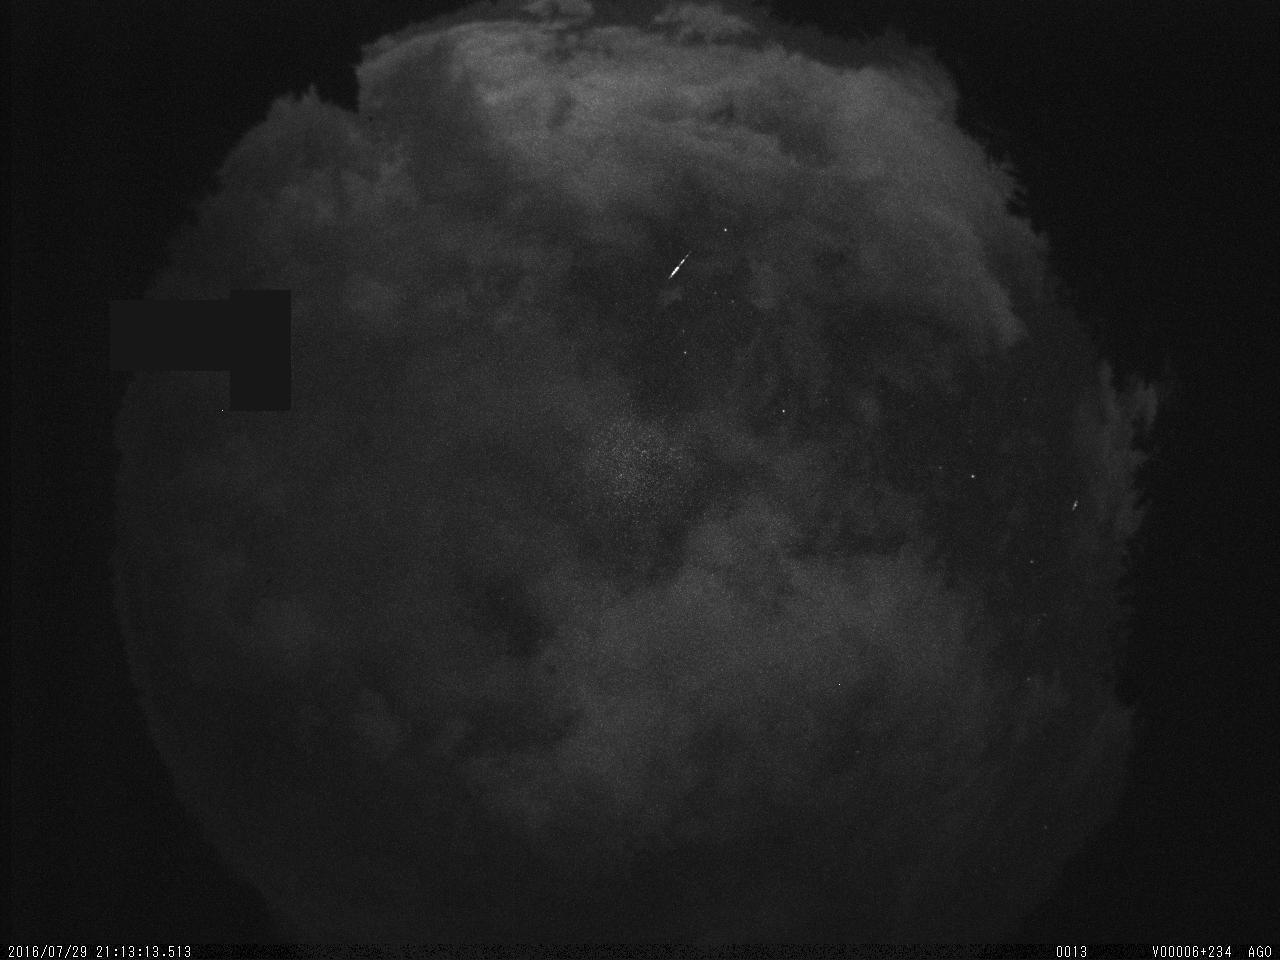Meteor: (665, 249, 691, 280)
